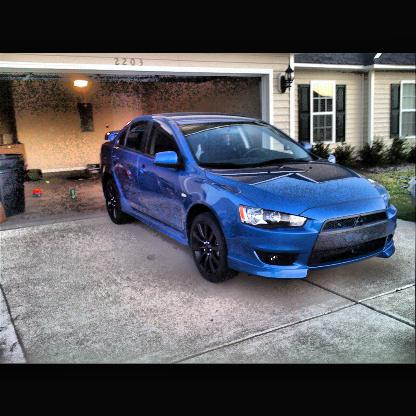Mitsubishi Lancer Sedan 2012: (103, 116, 400, 284)
